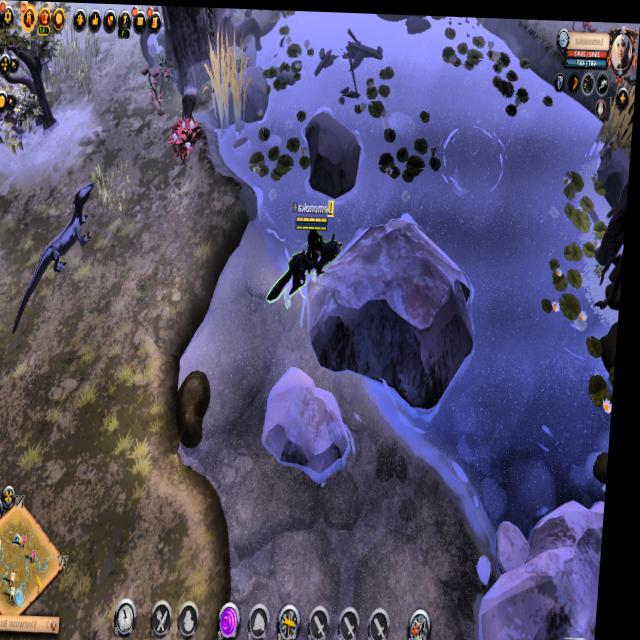fiber tier 5: (167, 111, 207, 166)
fish: (441, 113, 512, 195)
